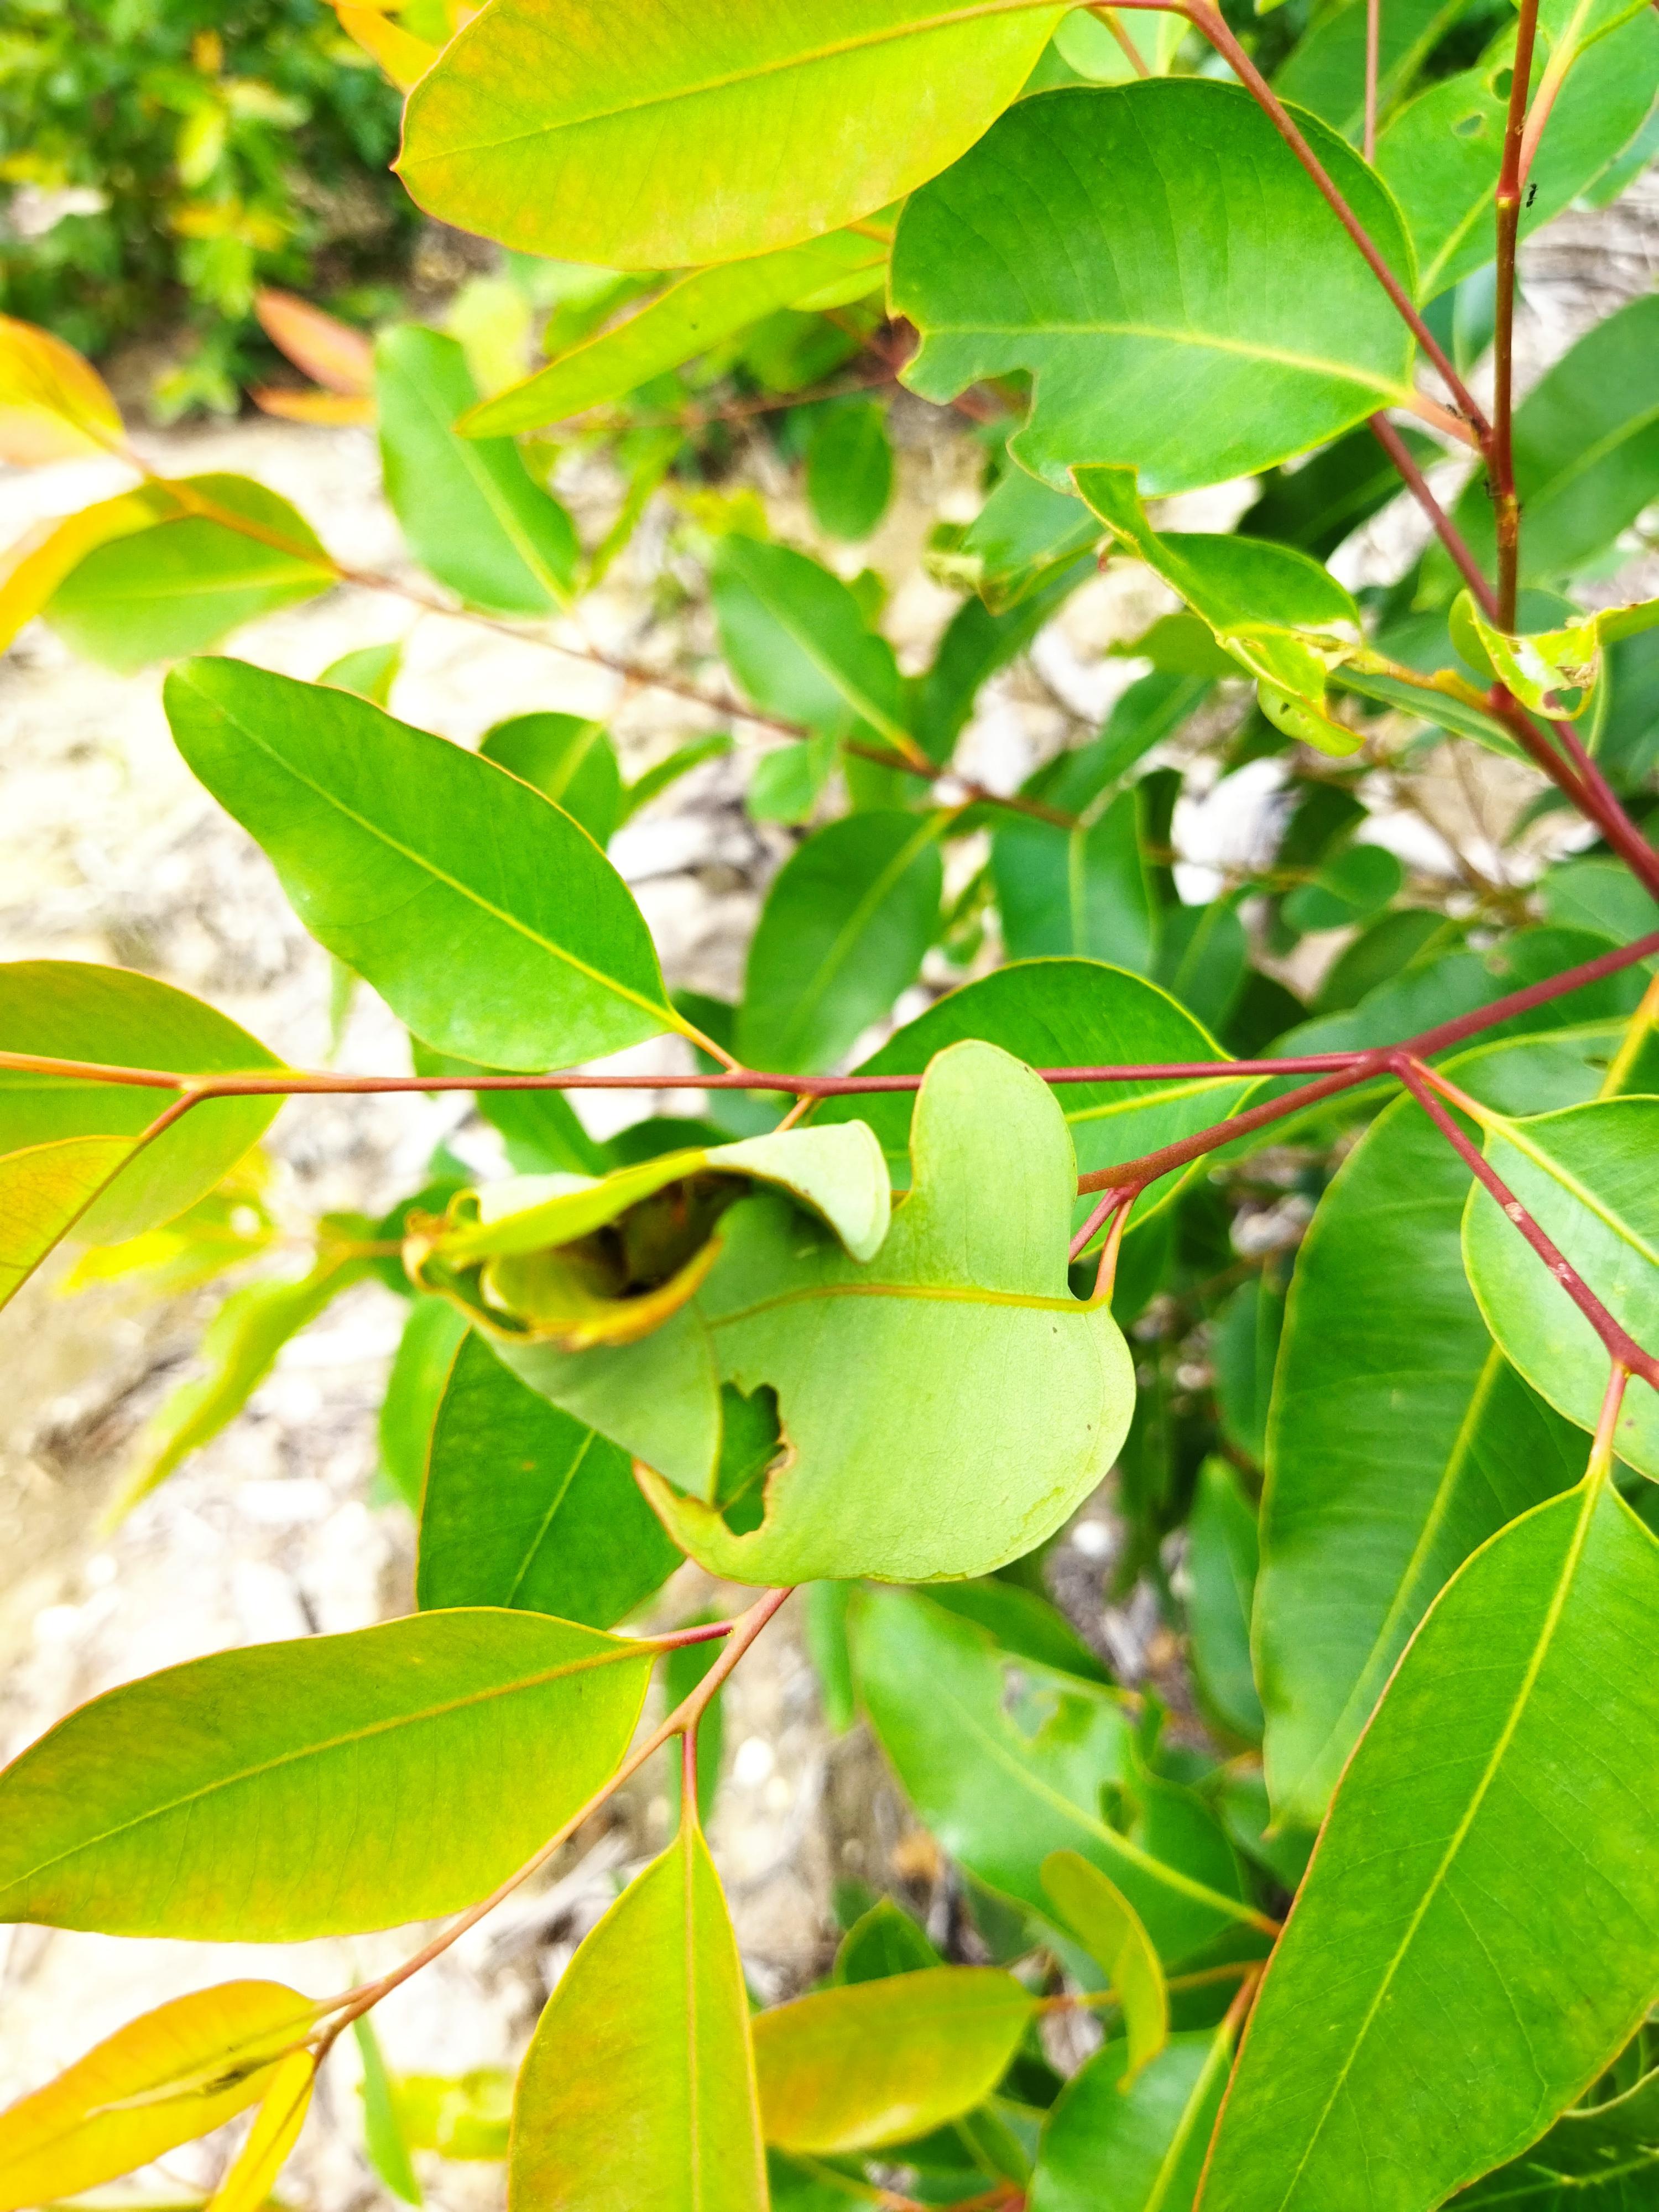Leaf Roller - Leaf: (389, 1080, 1141, 1594)
